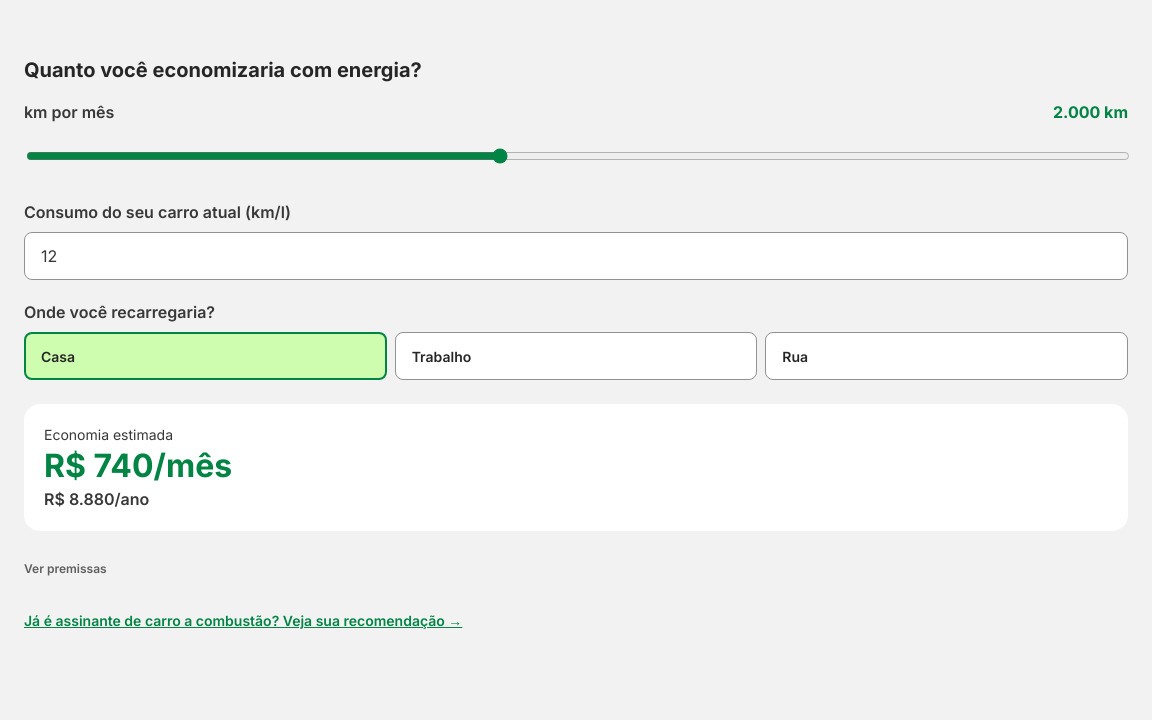
Test: SimuladorEconomia › recarga na rua reduz para R$ 340/mês
The width and height of the screenshot is (1152, 720).
Click the radio button labelled "Rua" at [795, 356], box [765,332,1128,380]
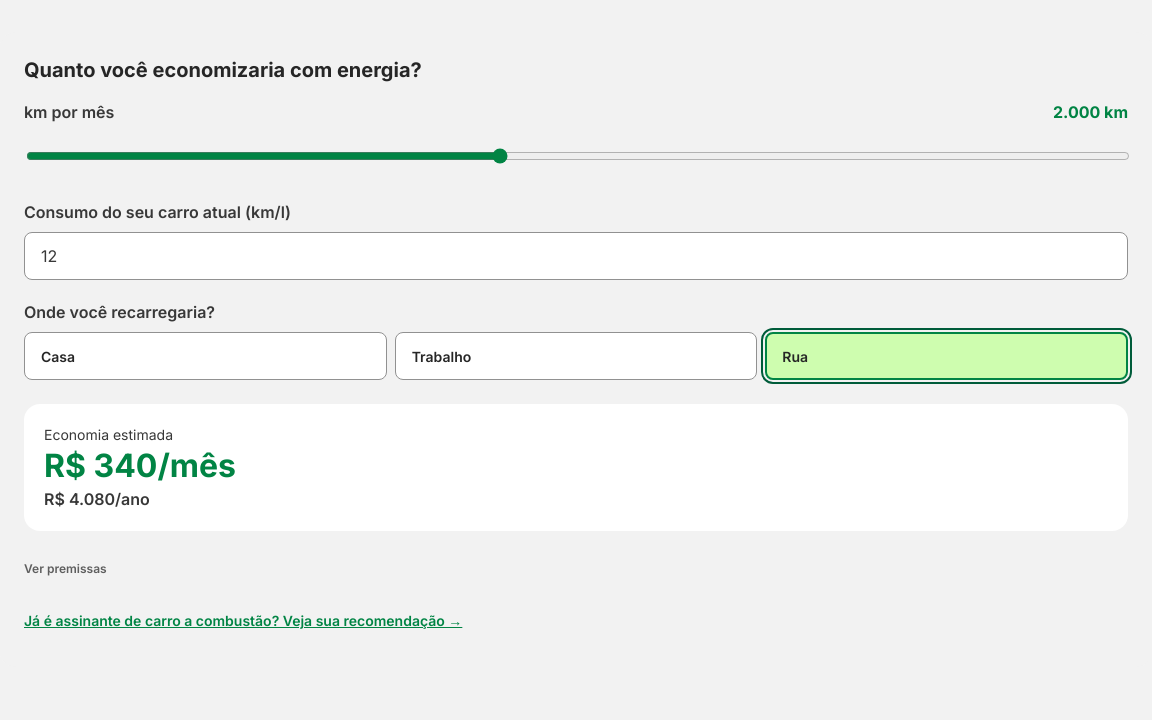
Check: the text "R$ 340/mês" is shown, box [44,446,236,485]
